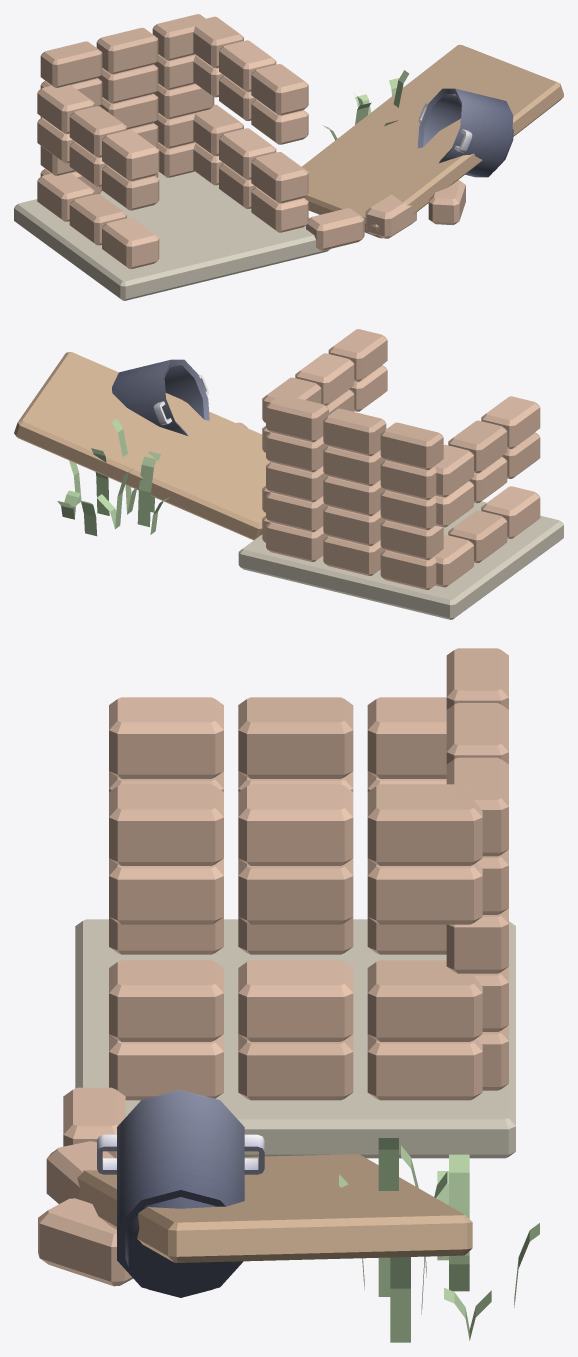
The model's file is crafted-kitchen-1-abandoned.glb.
3 views of the same model, one above another, from view 1: azimuth 30°, elevation 25°; view 2: azimuth 150°, elevation 25°; view 3: azimuth 270°, elevation 25° (orthographic). The views are drawn at different scales.
Visible parts, largest first — view 1: fallen-counter, hearth, discarded-pot, rear-brick-12, firebox-brick-20, firebox-brick-8, firebox-brick-2, firebox-brick-14, rear-brick-13, loose-brick, firebox-brick-19, firebox-brick-7 (+28 smaller); view 2: fallen-counter, hearth, discarded-pot, grass, rear-brick-12, rear-brick-13, rear-brick-14, rear-brick-3, firebox-brick-1, firebox-brick-20, firebox-brick-2, firebox-brick-13 (+21 smaller); view 3: hearth, fallen-counter, discarded-pot, firebox-brick-13, firebox-brick-19, firebox-brick-7, firebox-brick-8, firebox-brick-14, firebox-brick-20, firebox-brick-18, firebox-brick-6, grass (+22 smaller).
Part boxes in pixels (<box>): fallen-counter: <box>302,44,563,238</box>; hearth: <box>14,171,330,300</box>; discarded-pot: <box>417,88,513,177</box>; rear-brick-12: <box>40,41,102,87</box>; firebox-brick-20: <box>251,64,308,115</box>; firebox-brick-8: <box>251,152,308,203</box>; firebox-brick-2: <box>102,217,159,268</box>; firebox-brick-14: <box>102,129,159,181</box>; rear-brick-13: <box>96,27,158,74</box>; loose-brick: <box>306,208,364,250</box>; firebox-brick-19: <box>219,40,276,91</box>; firebox-brick-7: <box>219,128,276,179</box>; fallen-counter: <box>14,352,269,540</box>; hearth: <box>238,501,563,619</box>; discarded-pot: <box>112,359,209,435</box>; grass: <box>57,418,170,536</box>; rear-brick-12: <box>380,422,443,470</box>; rear-brick-13: <box>323,408,386,456</box>; rear-brick-14: <box>266,396,328,442</box>; rear-brick-3: <box>380,520,443,559</box>; firebox-brick-1: <box>448,510,507,563</box>; firebox-brick-20: <box>328,329,387,381</box>; firebox-brick-2: <box>481,486,540,538</box>; firebox-brick-13: <box>448,420,507,473</box>; hearth: <box>75,919,515,1158</box>; fallen-counter: <box>77,1154,472,1262</box>; discarded-pot: <box>97,1090,264,1297</box>; firebox-brick-13: <box>238,697,353,778</box>; firebox-brick-19: <box>238,784,353,865</box>; firebox-brick-7: <box>238,960,353,1041</box>; firebox-brick-8: <box>109,960,223,1041</box>; firebox-brick-14: <box>109,697,223,778</box>; firebox-brick-20: <box>109,784,223,865</box>; firebox-brick-18: <box>367,784,482,865</box>; firebox-brick-6: <box>367,960,482,1041</box>; grass: <box>339,1138,539,1342</box>.
Bounding box in the file's own units: 2.25 × 0.7967 × 1.05.
43 materials, 1 textured.
